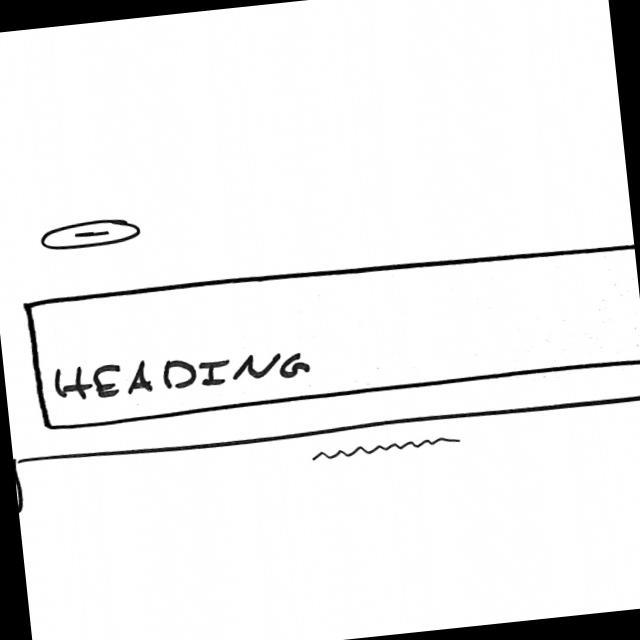container: (26, 237, 640, 433)
icon-button: (38, 215, 144, 253)
label: (50, 343, 315, 406)
text: (310, 436, 466, 464)
